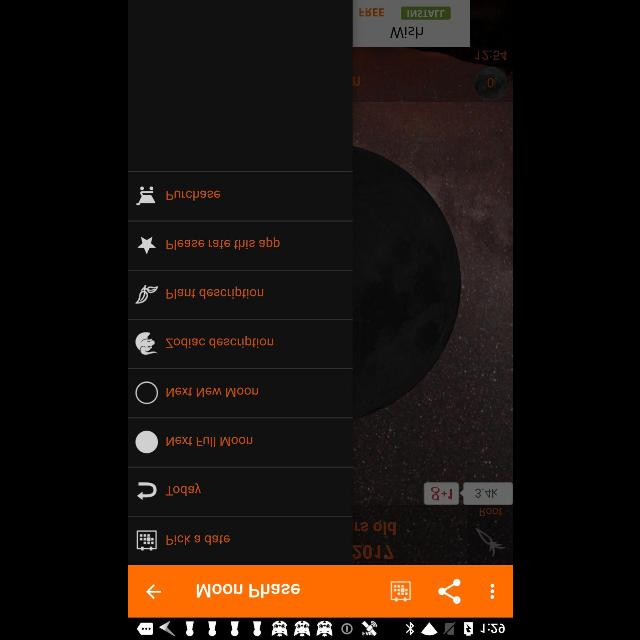icon: (438, 578, 460, 604), (390, 580, 410, 602), (136, 530, 156, 550), (136, 236, 156, 254), (136, 482, 156, 500), (136, 187, 154, 206), (145, 583, 161, 599), (490, 583, 494, 599)
image: (134, 431, 158, 454), (134, 332, 158, 354), (134, 382, 158, 404), (134, 284, 158, 304)
panel: (128, 1, 352, 566)
text: (196, 583, 300, 599), (165, 237, 279, 251), (164, 335, 274, 349), (165, 286, 263, 300), (165, 387, 257, 398), (165, 437, 252, 448), (165, 534, 229, 546), (166, 189, 220, 201), (166, 484, 200, 496)
toolbar: (128, 565, 512, 617)
uppertaskbar: (128, 617, 512, 639)
